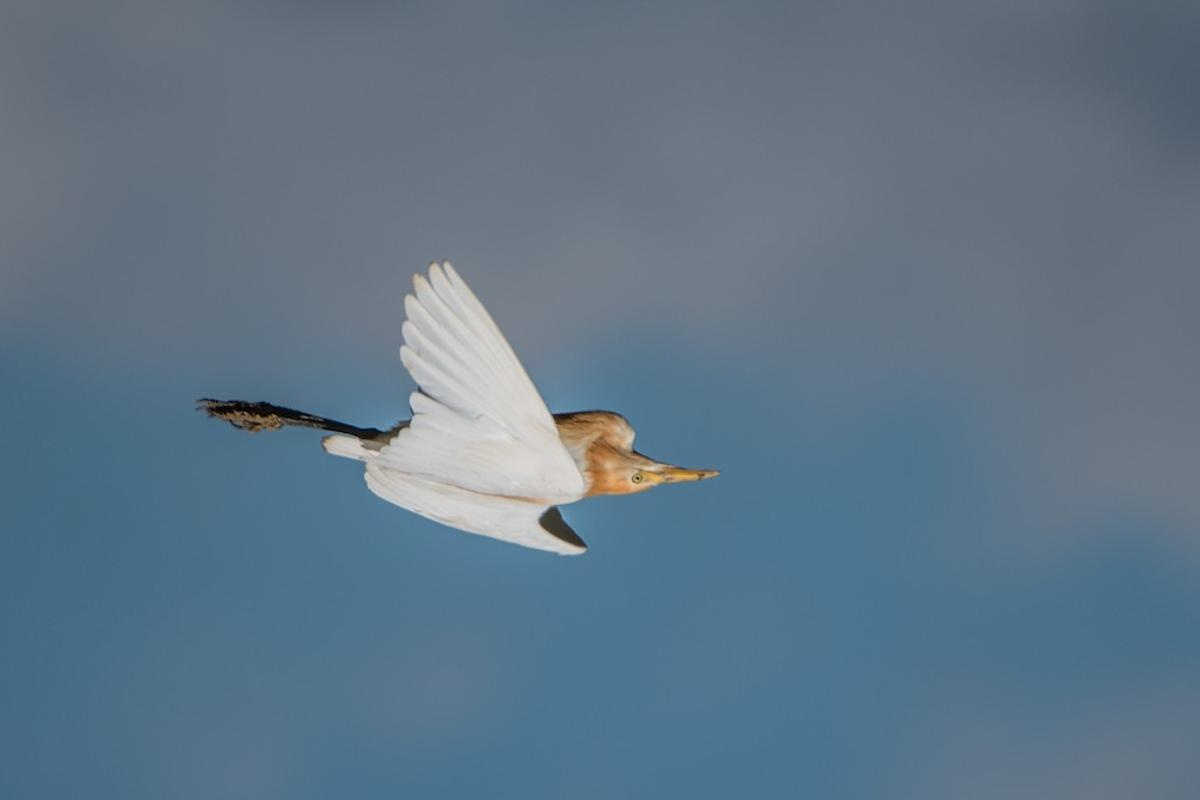egret: (217, 279, 724, 566)
